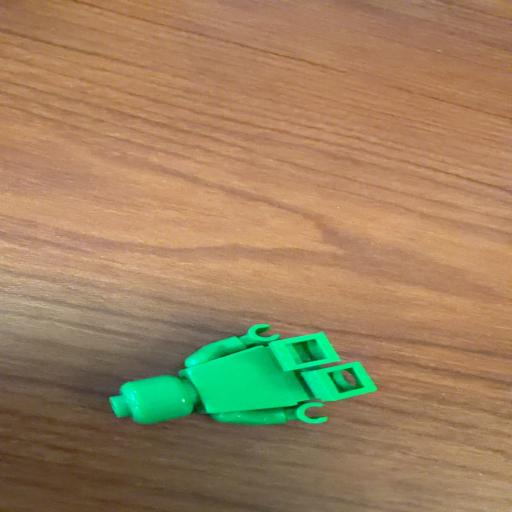UnoQ-minifig-detector: (109, 323, 377, 425)
